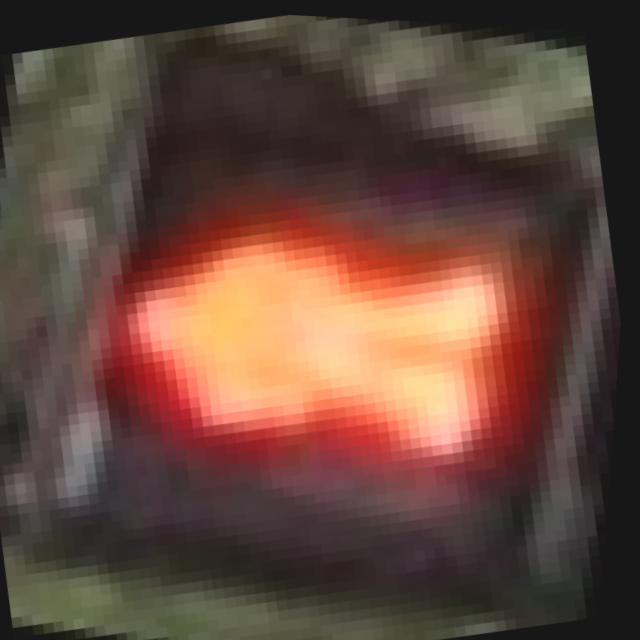red_light: (28, 77, 622, 603)
